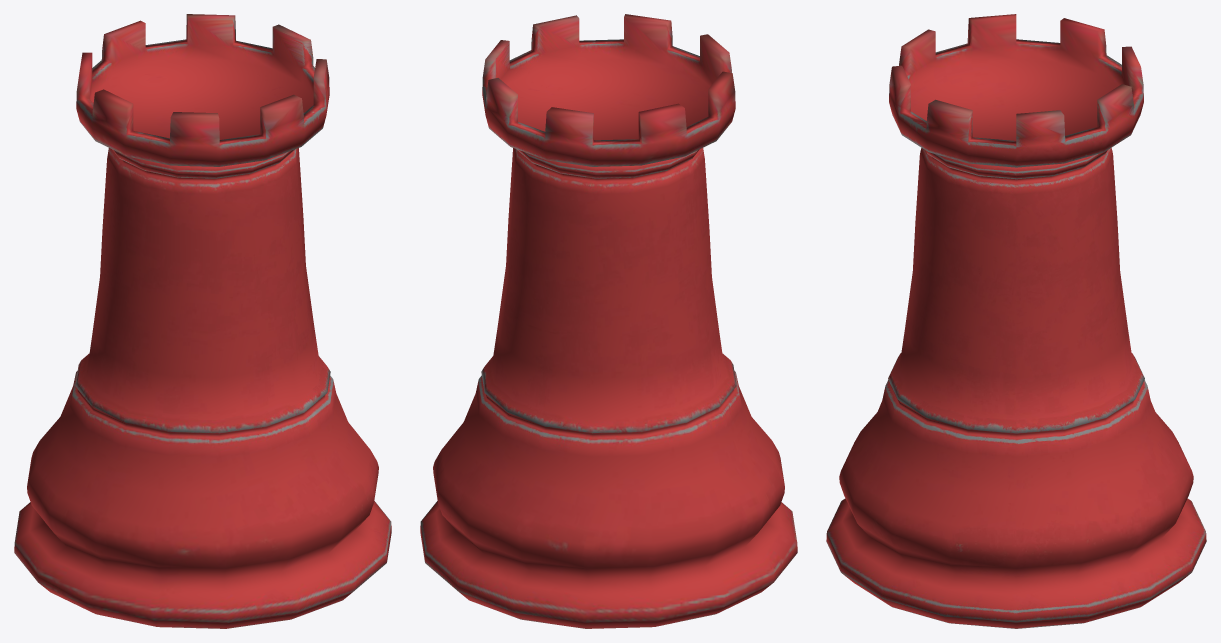
File: rook.glb
3 renders of one model, left to right at view 1: azimuth 30°, elevation 25°; view 2: azimuth 150°, elevation 25°; view 3: azimuth 270°, elevation 25°, orthographic.
Parts seen in each view (by area): view 1: rook.006; view 2: rook.006; view 3: rook.006.
Part boxes in pixels (x1=…): rook.006: x1=14, y1=14, x2=391, y2=628; rook.006: x1=420, y1=14, x2=797, y2=628; rook.006: x1=826, y1=14, x2=1206, y2=628.
Size of the model in its own units: 1.4 by 2.05 by 1.4.
Materials: 1 (1 with a texture image).
